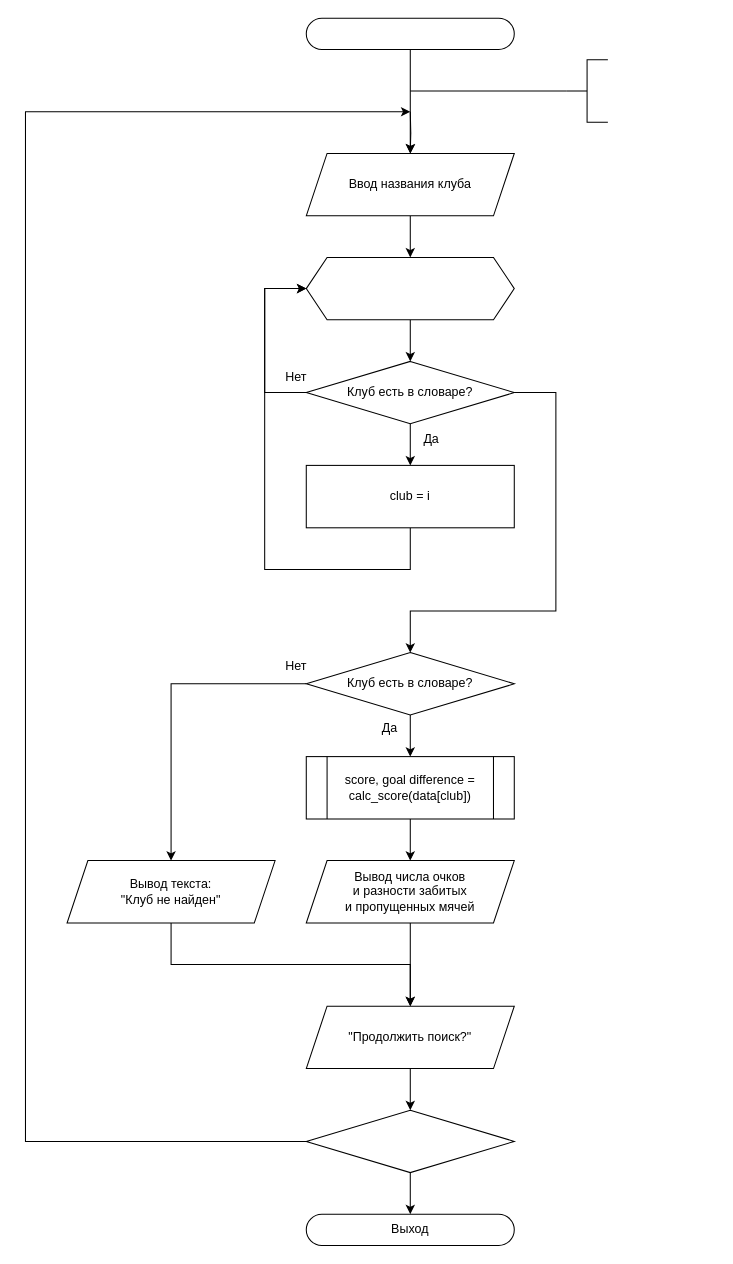
Some shapes in this 733 by 1264 pixel diagram are drawn without their labels. The shapes that lost their labels are listed below. From the top down, each one's box as (x1, y1, x2, y2) in pixels, then its label:
(305, 17, 514, 49): Вход
(565, 59, 608, 122): Словарь (team)
(305, 256, 514, 320): Цикл i для элементов club с разными регистрами
(305, 1109, 514, 1173): Ответ пользователя "нет"?
